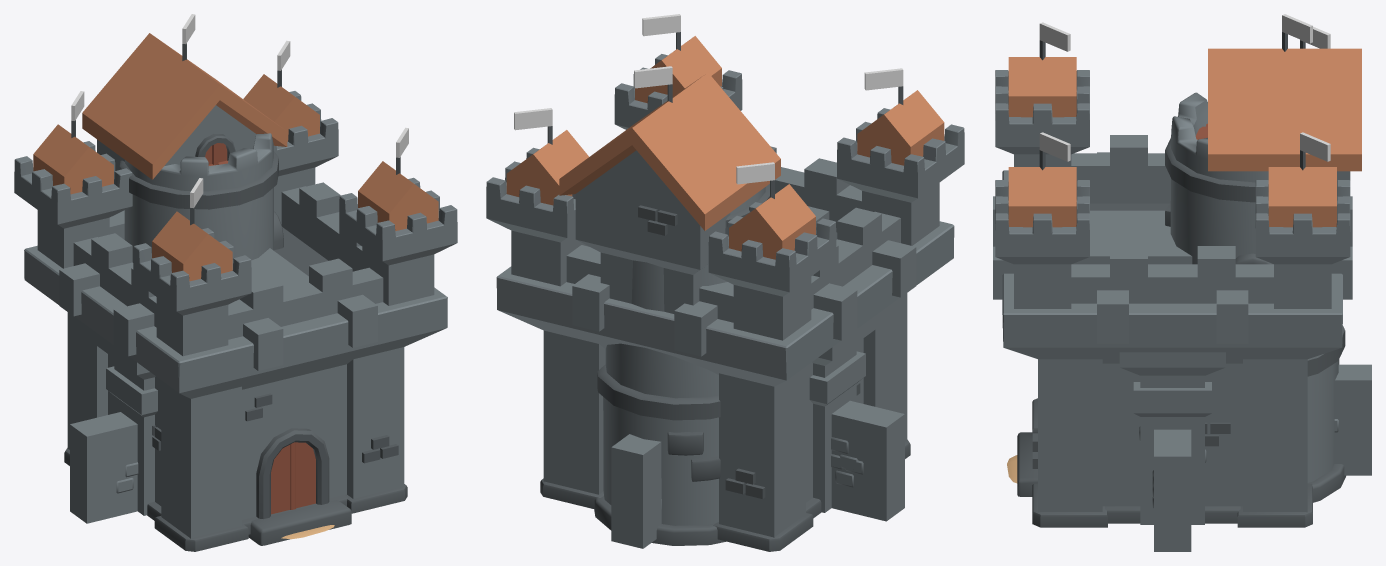
File: castle-walls.glb
3 views of the same model, side by side, from view 1: azimuth 30°, elevation 25°; view 2: azimuth 150°, elevation 25°; view 3: azimuth 270°, elevation 25° (orthographic). The views are drawn at different scales.
Visible parts, largest first — view 1: castle, watchtower, wall_straight, wall_gate; view 2: castle, watchtower, wall_gate, wall_corner, wall_straight; view 3: castle, watchtower, wall_gate, wall_straight, wall_corner.
Boxes of the visible parts, box(x1,y1,x2,y2) form: castle: box(14, 14, 457, 551); watchtower: box(119, 133, 334, 539); wall_straight: box(70, 412, 137, 523); wall_gate: box(78, 327, 157, 515); castle: box(486, 14, 964, 551); watchtower: box(594, 184, 769, 545); wall_gate: box(809, 309, 889, 521); wall_corner: box(611, 434, 858, 548); wall_straight: box(831, 408, 904, 520); castle: box(993, 14, 1361, 527); watchtower: box(1007, 92, 1345, 502); wall_gate: box(1119, 352, 1225, 551); wall_straight: box(1152, 429, 1191, 551); wall_corner: box(1334, 364, 1371, 475).
Bounding box in the file's own units: 13.2 × 16.72 × 12.56.
